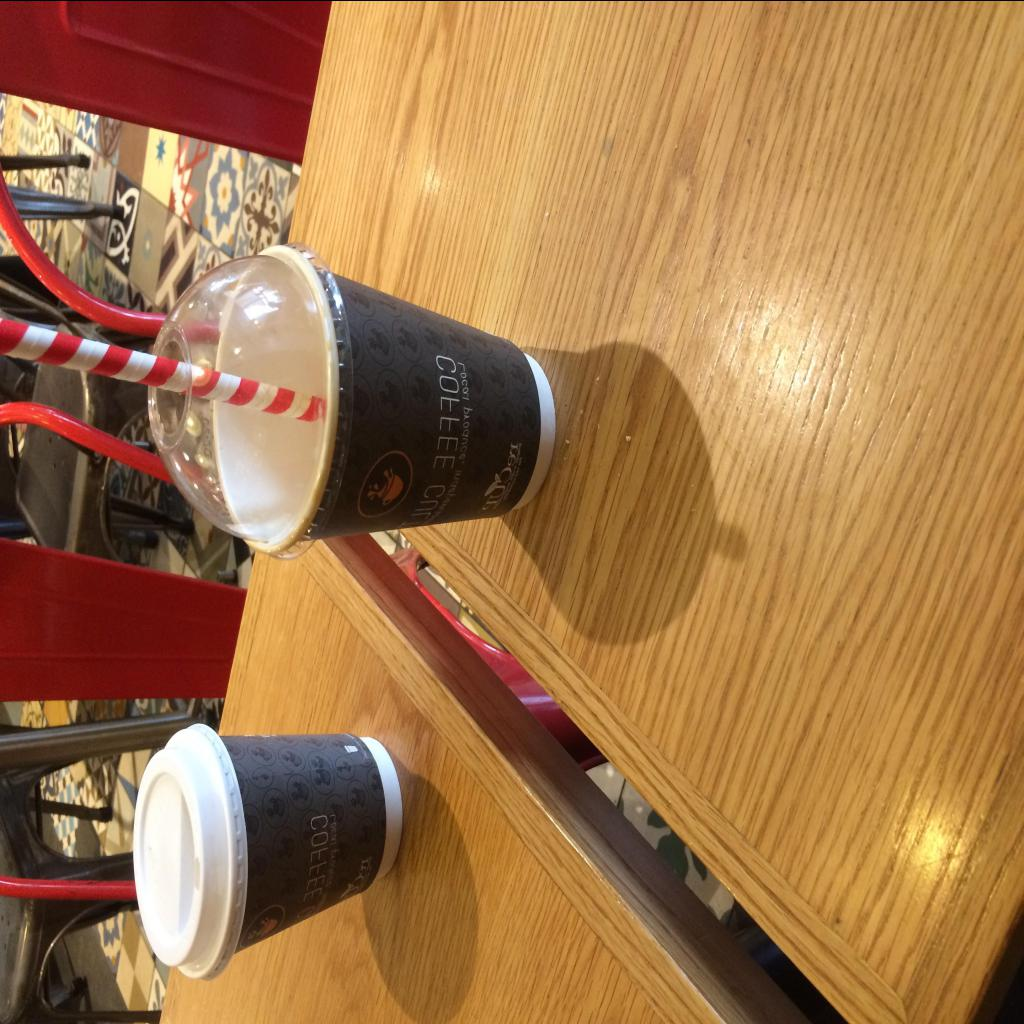Paper cup: (213, 244, 555, 552), (220, 733, 402, 953)
Plastic lid: (148, 241, 354, 559), (133, 723, 248, 981)
